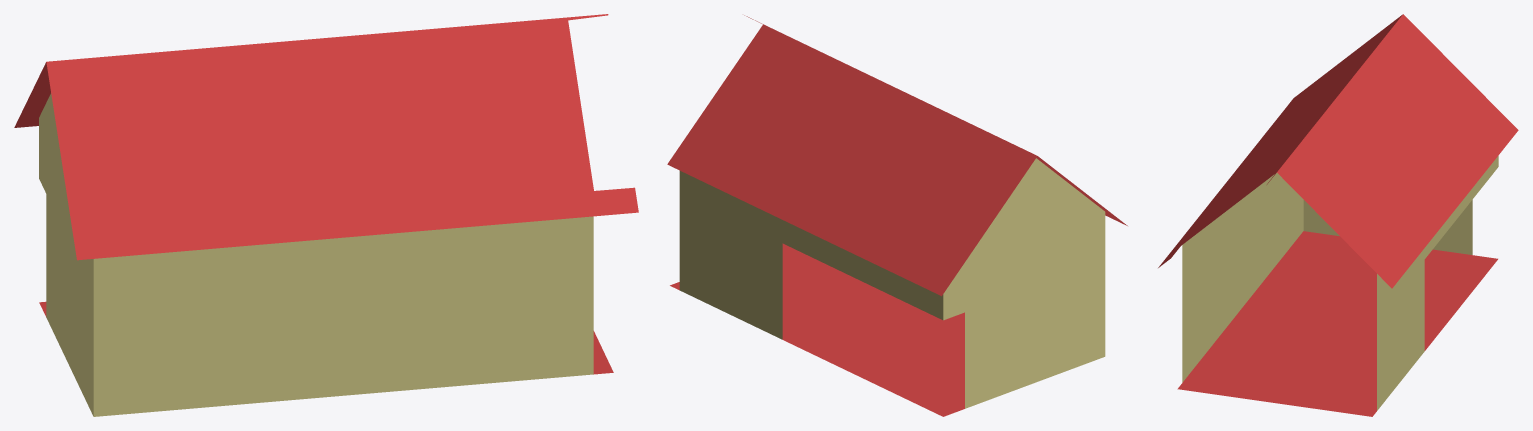
The picture shows the model from 3 angles, left to right: view 1: azimuth 30°, elevation 25°; view 2: azimuth 150°, elevation 25°; view 3: azimuth 270°, elevation 25°; orthographic projection. The views are drawn at different scales.
Size of the model in its own units: 29.11 by 22.87 by 15.66.
